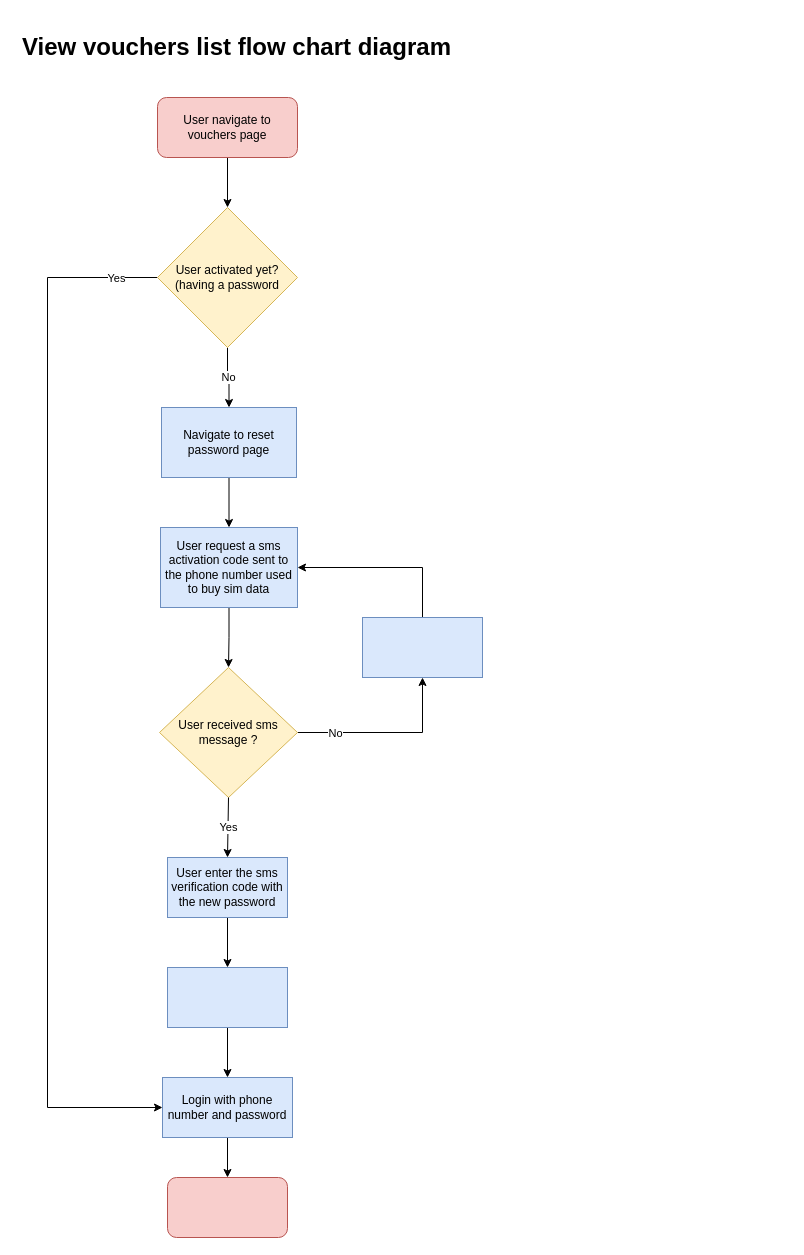
The diagram is 804 pixels wide and 1255 high, and some of its shapes have lost their labels. Each missing label, with the box of its shape:
Reset pasword completed: (166, 966, 288, 1028)
User able to view the purchased voucher codes: (166, 1176, 288, 1238)
Wait 60 seconds to try again: (362, 616, 482, 678)
